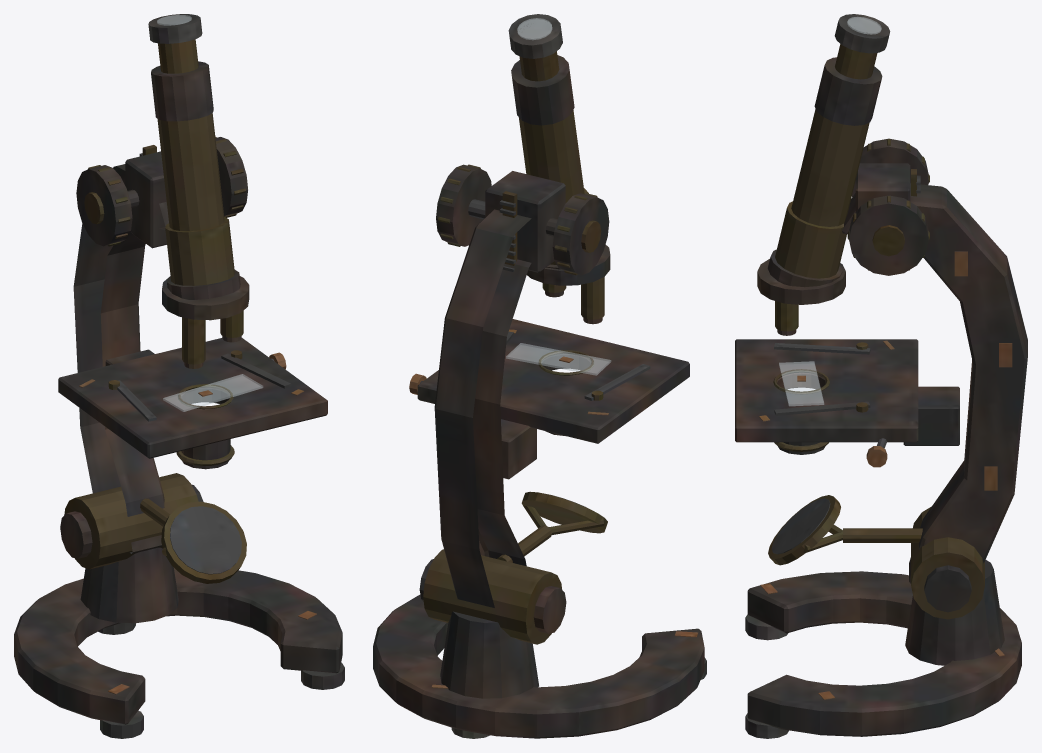
File: Y11_microscope.glb
3 views of the same model, side by side, from view 1: azimuth 30°, elevation 25°; view 2: azimuth 150°, elevation 25°; view 3: azimuth 270°, elevation 25° (orthographic).
Parts seen in each view (by area): view 1: Heavy horseshoe foot; view 2: Heavy horseshoe foot; view 3: Heavy horseshoe foot.
Part boxes in pixels (x1,y1,x2,y2): Heavy horseshoe foot: (14, 14, 344, 738); Heavy horseshoe foot: (373, 14, 706, 738); Heavy horseshoe foot: (735, 14, 1027, 738).
Size of the model in its own units: 0.2276 by 0.5 by 0.2013.
Materials: 6 (5 with a texture image).
